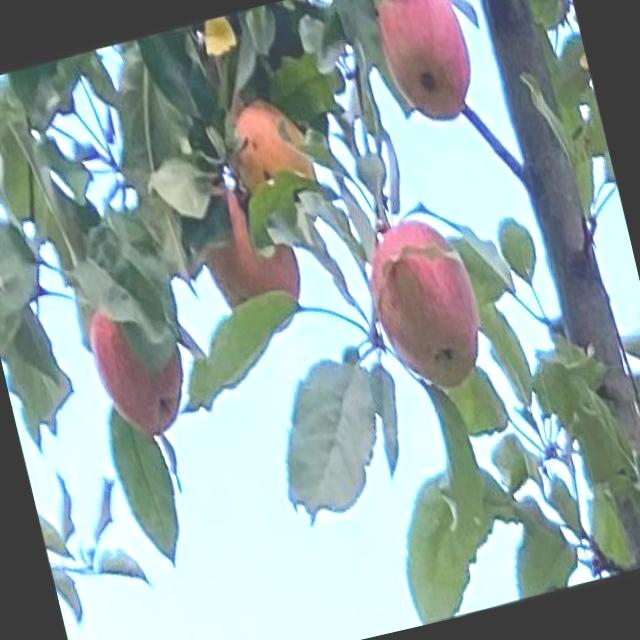Apple: (356, 209, 492, 394), (190, 176, 312, 344), (82, 292, 196, 443), (368, 0, 481, 128)
Mango: (220, 92, 320, 214)
